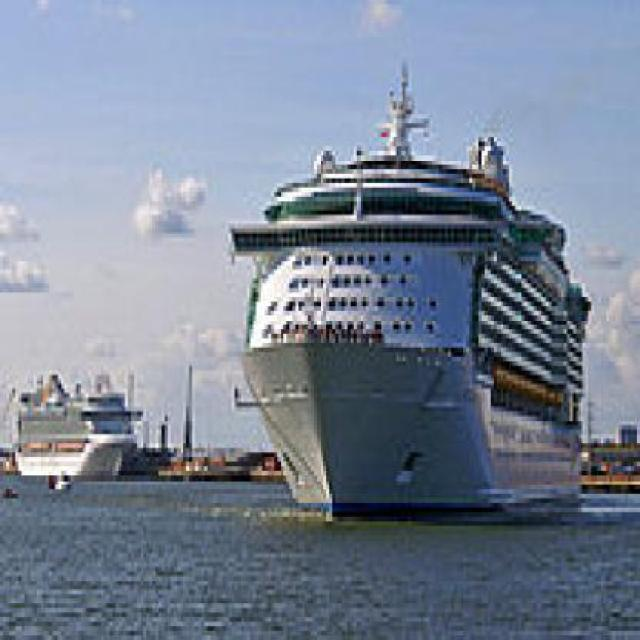cruise: (211, 47, 599, 536)
